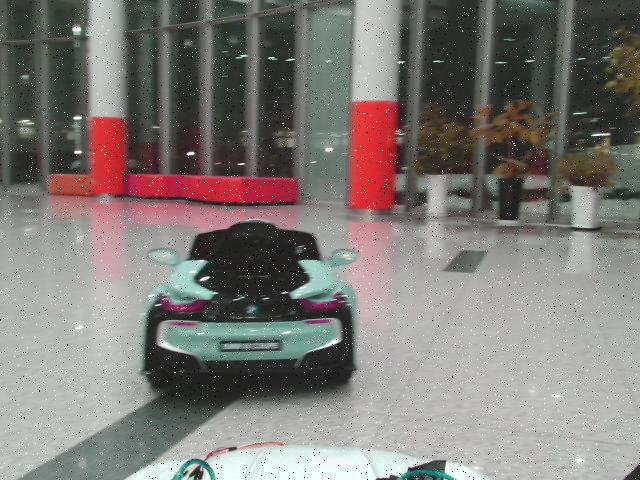car: (142, 219, 361, 392)
